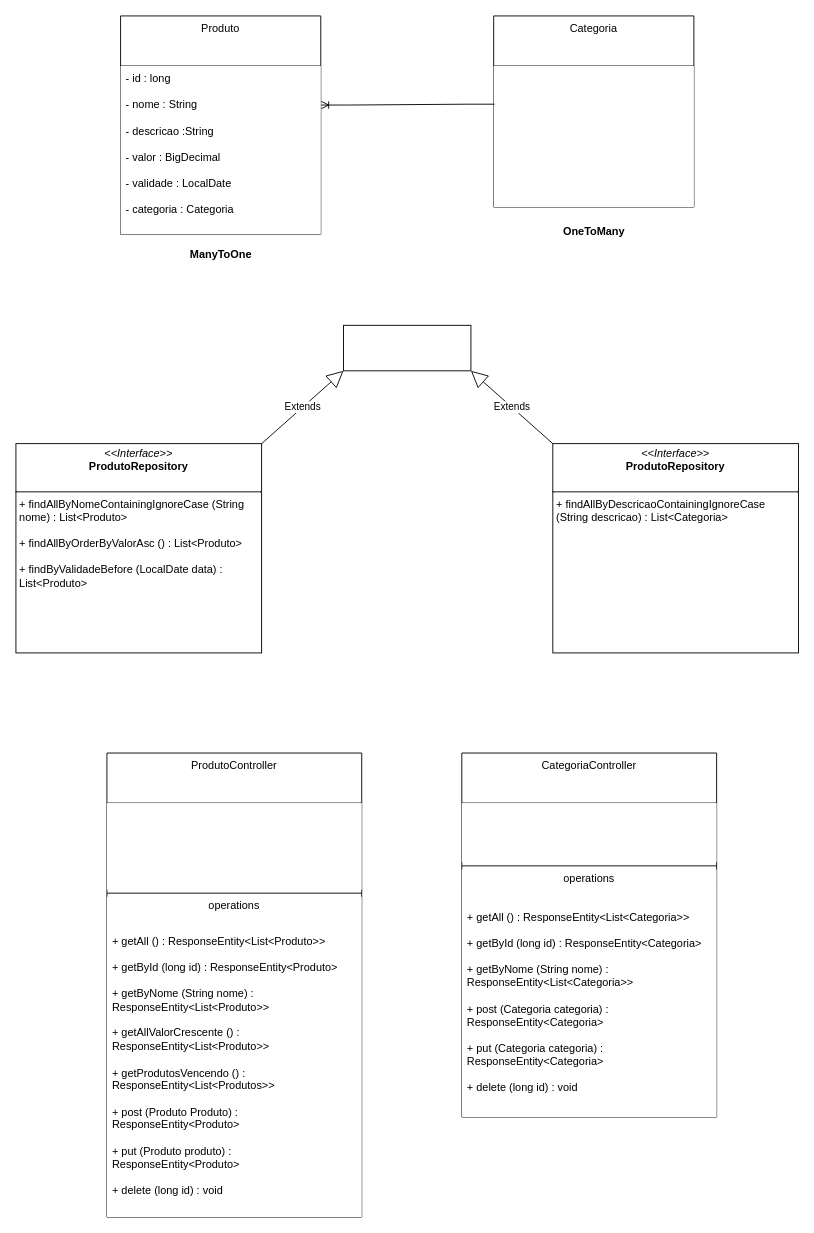
Image size: 814x1233. Some labels were removed from this diagram. Each missing label, with the centre of its shape:
- categoriaRepository : CategoriaRepository: the point at 588,832
- id : long - descricao : String - produtos : List<Produto>: the point at 593,136
- produtoRepository : ProdutoRepository - produtoService : ProdutoService: the point at 233,846
«interface» Jpa Repository: the point at 407,347
